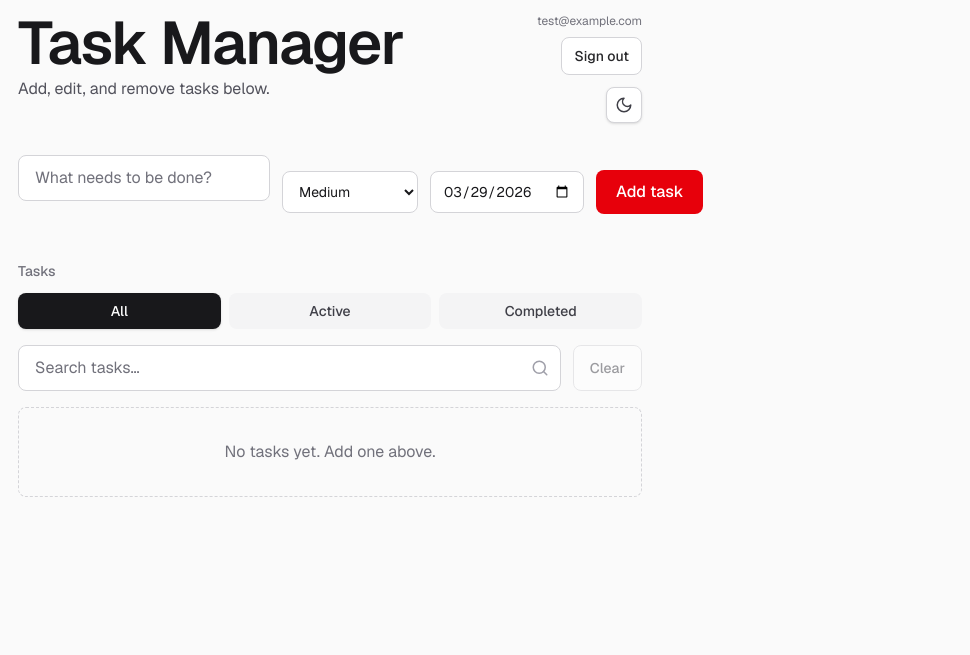
Test: Home task manager › shows a success toast when a task title is saved from the editor
Type "Alpha" into the field named "Task title". click: coordinates (144, 178)
box: [18,155,270,201]
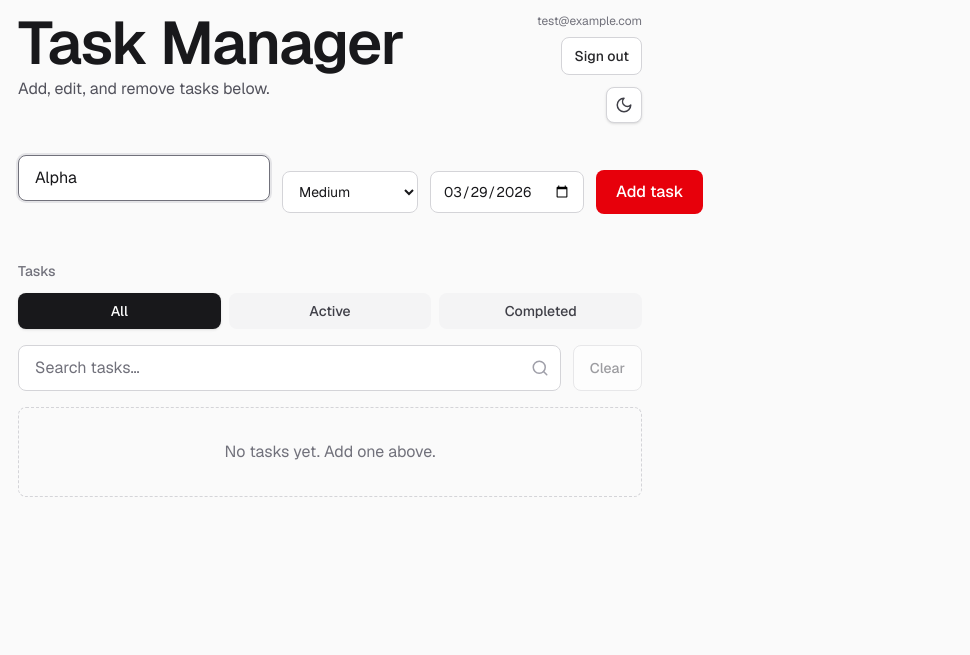
Click the button "Add task". click: coordinates (650, 192)
box: [596,170,703,214]
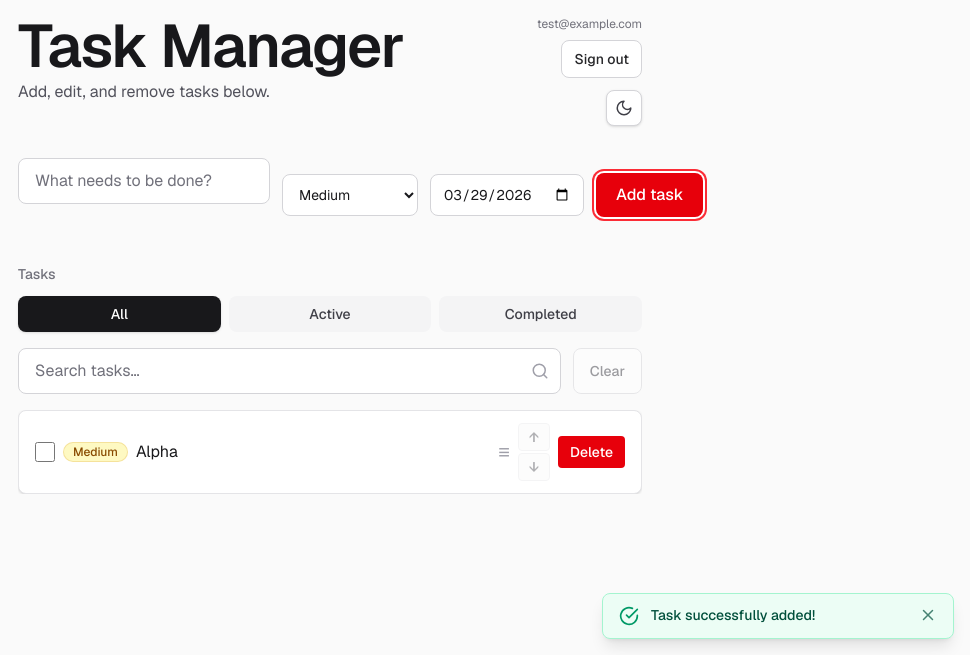
Click the button named "Edit task \"Alpha\"". click: coordinates (157, 452)
box: [136,441,178,462]
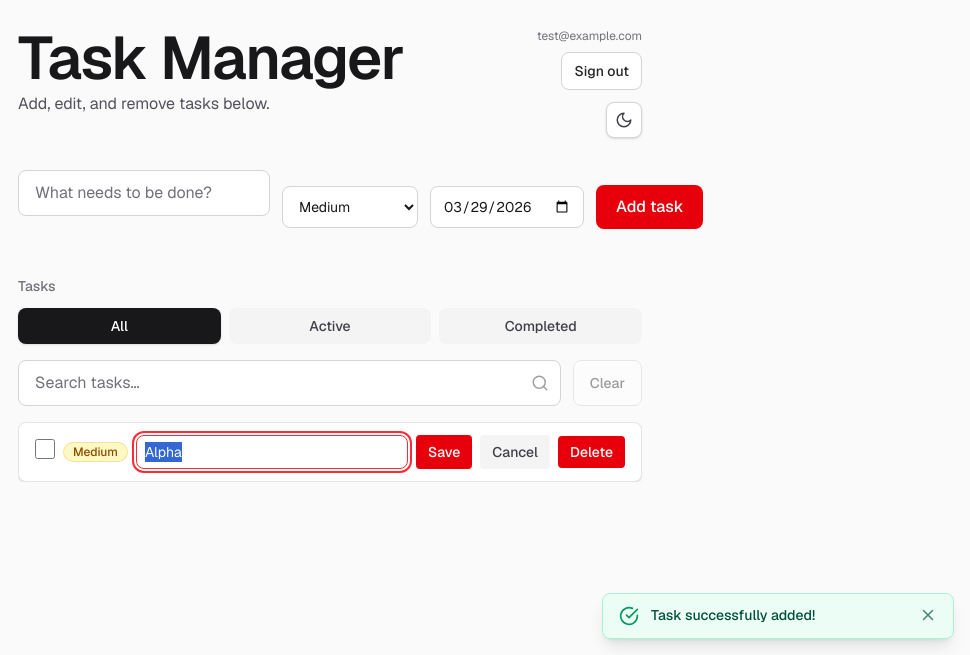
Replace the text in the field named "Edit task title" with "Beta". click: coordinates (272, 452)
box: [136,435,408,469]
Then press Enter
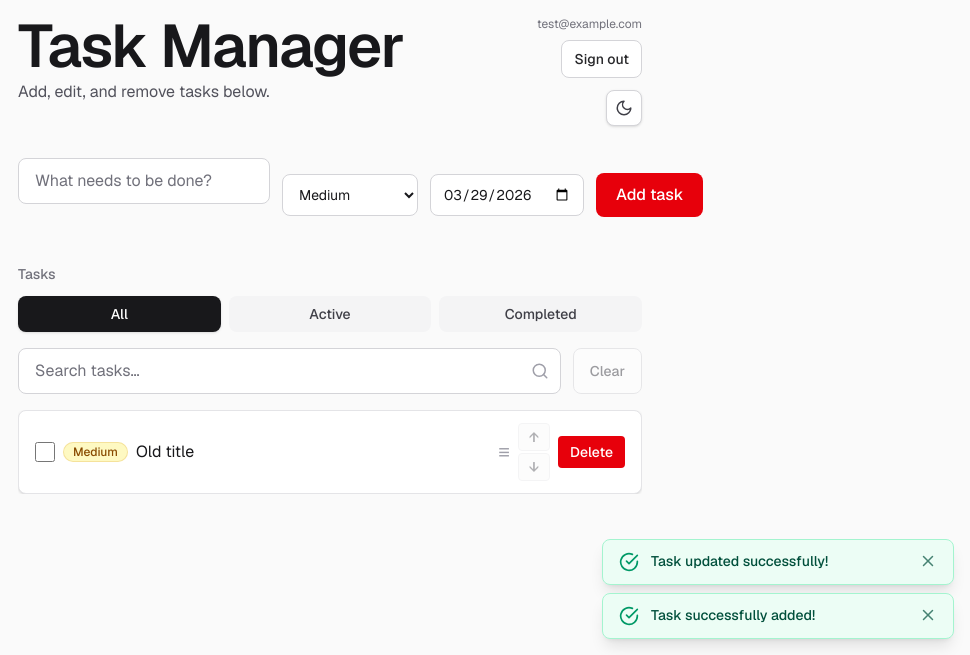
Result: the text "Task updated successfully!" is shown at [651,552,828,570]
